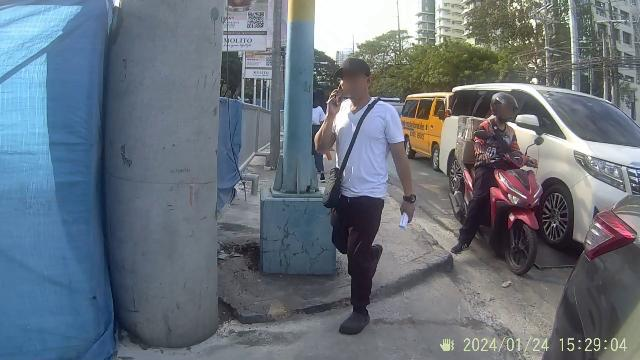motorcycle: (438, 88, 554, 279)
utility_post: (105, 2, 232, 350), (246, 0, 350, 288), (258, 2, 286, 176)
